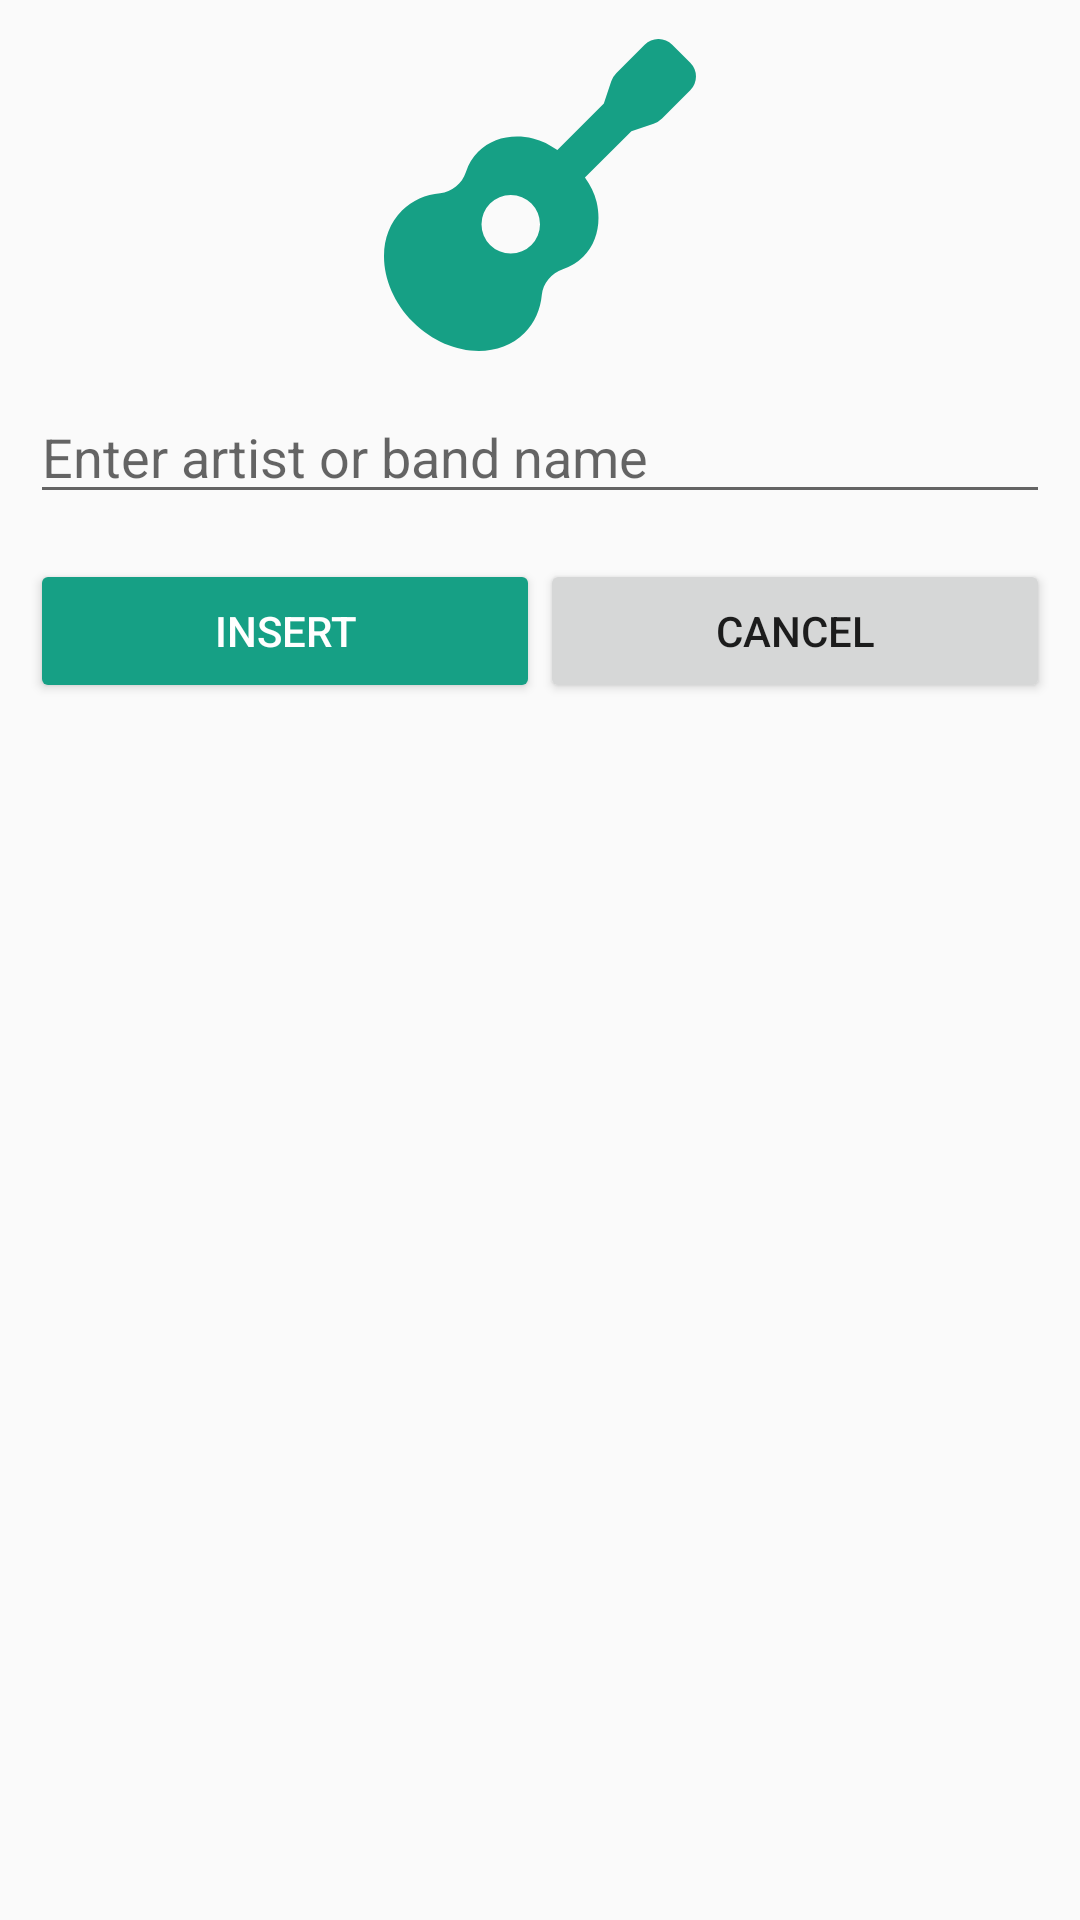

Screen size 1080 x 1920. Icon name, then its box in pixels as (x1, y1, x2, y2):
Add artist icon: (384, 39, 696, 351)
